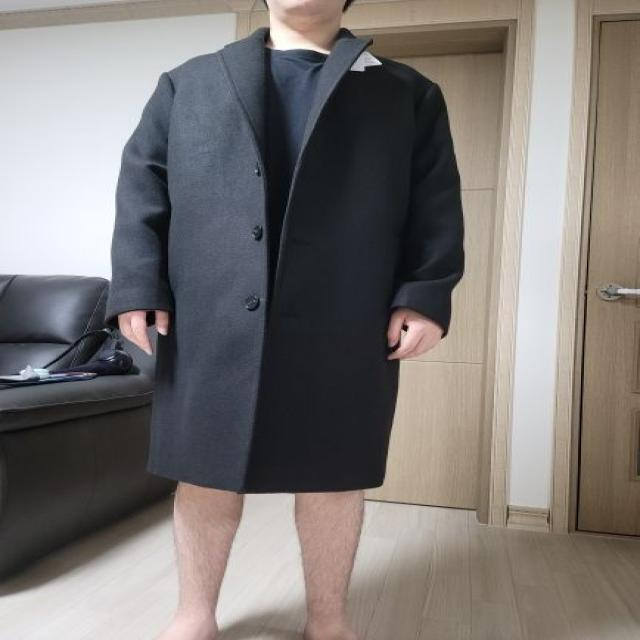coat: (113, 23, 465, 496)
